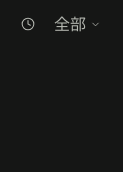
Test case: the session filter › flips the time-section reading from its clock, and it rests there
What coordinates should you click on to do the following:
click the button with class "session-filter-sort"
I would click on:
 (28, 24)
Its box is [16,12,40,36].
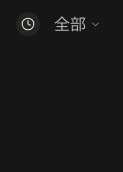
Expected: the button with class "session-filter-sort" is pressed
What coordinates should you click on to do the following:
click the button with class "session-filter-sort"
I would click on:
 (28, 24)
Its box is [16,12,40,36].
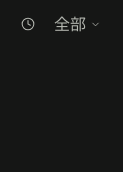
Expected: the button with class "session-filter-sort" is not pressed, [16,12,40,36]
